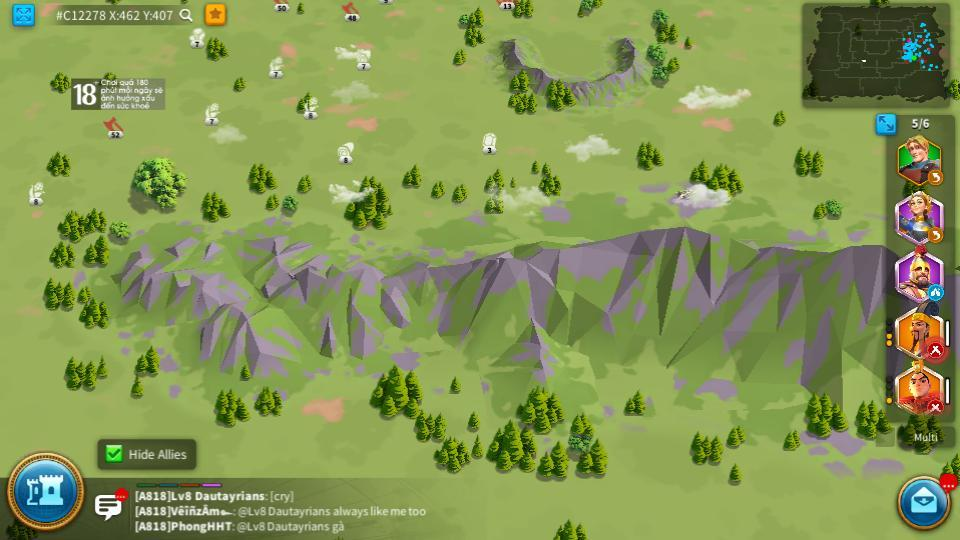gem-z-out: (480, 132, 498, 152)
march_attacking: (926, 345, 945, 358), (926, 402, 944, 413)
march_idle: (927, 285, 944, 300)
march_returning: (928, 170, 942, 183), (928, 230, 942, 242)
